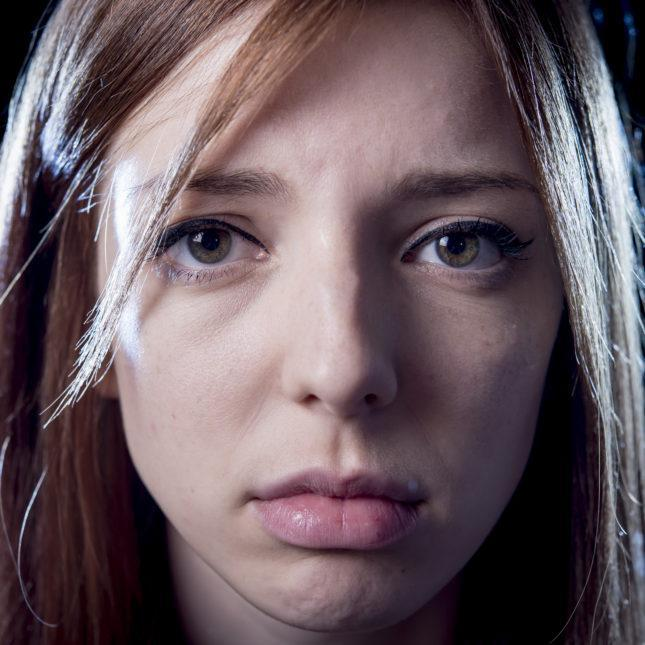Sober: (115, 69, 534, 562)
